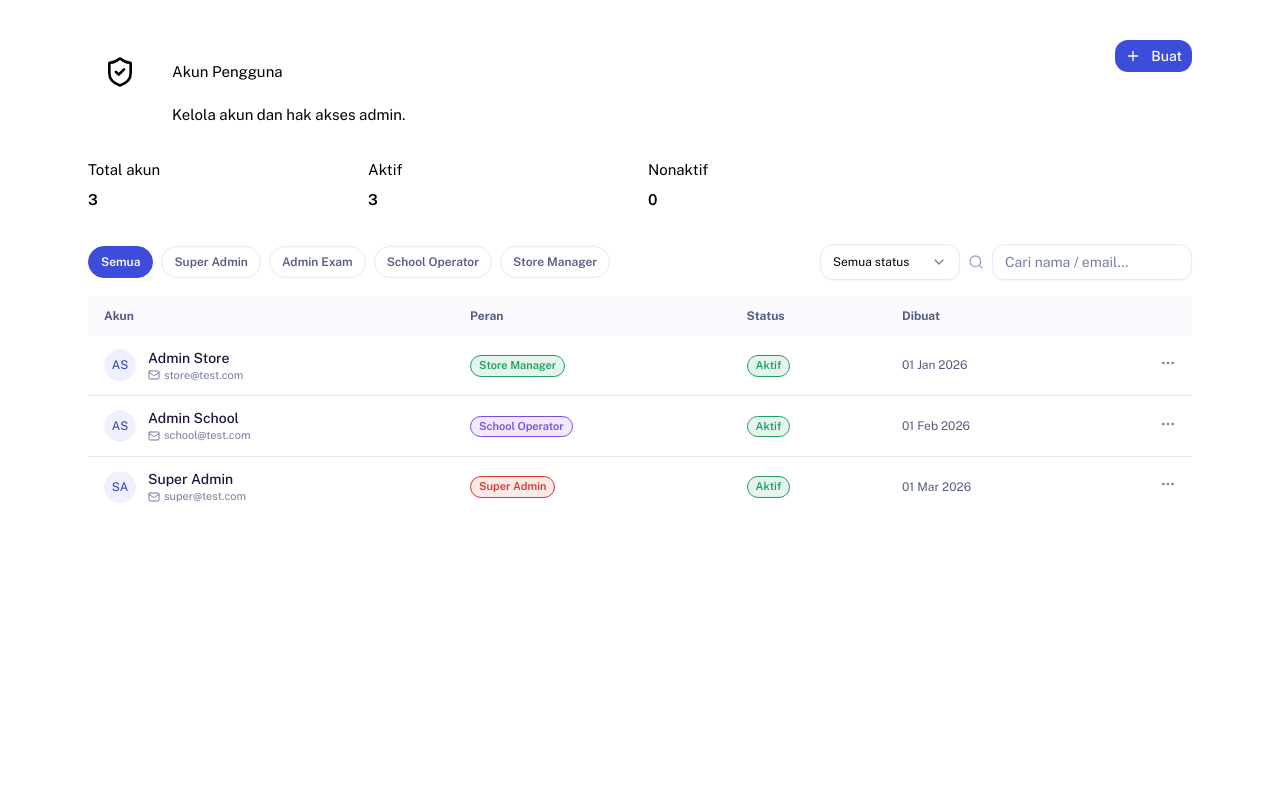
Scenario: SystemAccountsPage › school picker is hidden in create dialog (default role is admin_store)
Check: the text "Admin Store" is shown, box [148,348,243,368]
Click the button "Buat". click: (1154, 56)
box: [1115,40,1192,72]
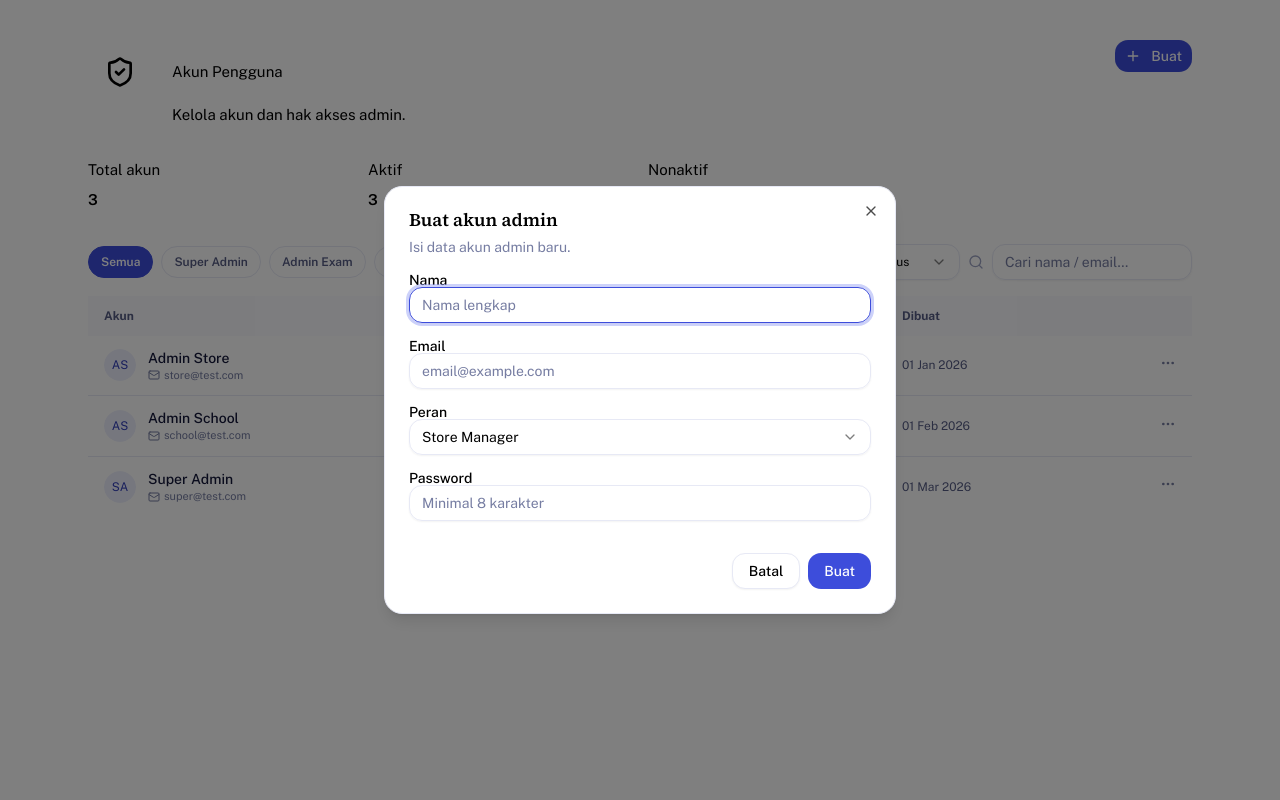
Check: the heading "Buat akun admin" is shown, box [409,207,558,232]
